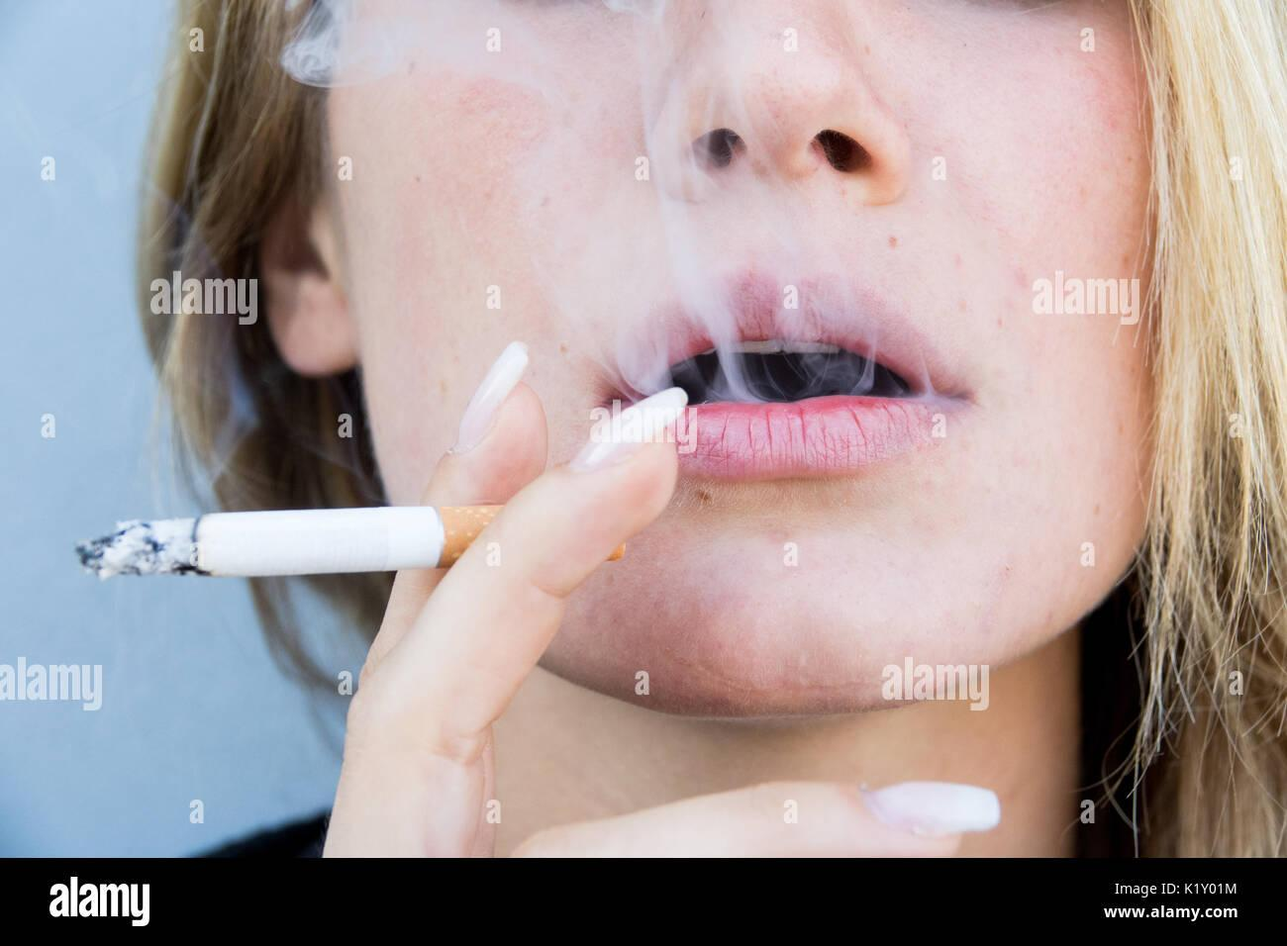cigarette: (77, 505, 501, 577)
